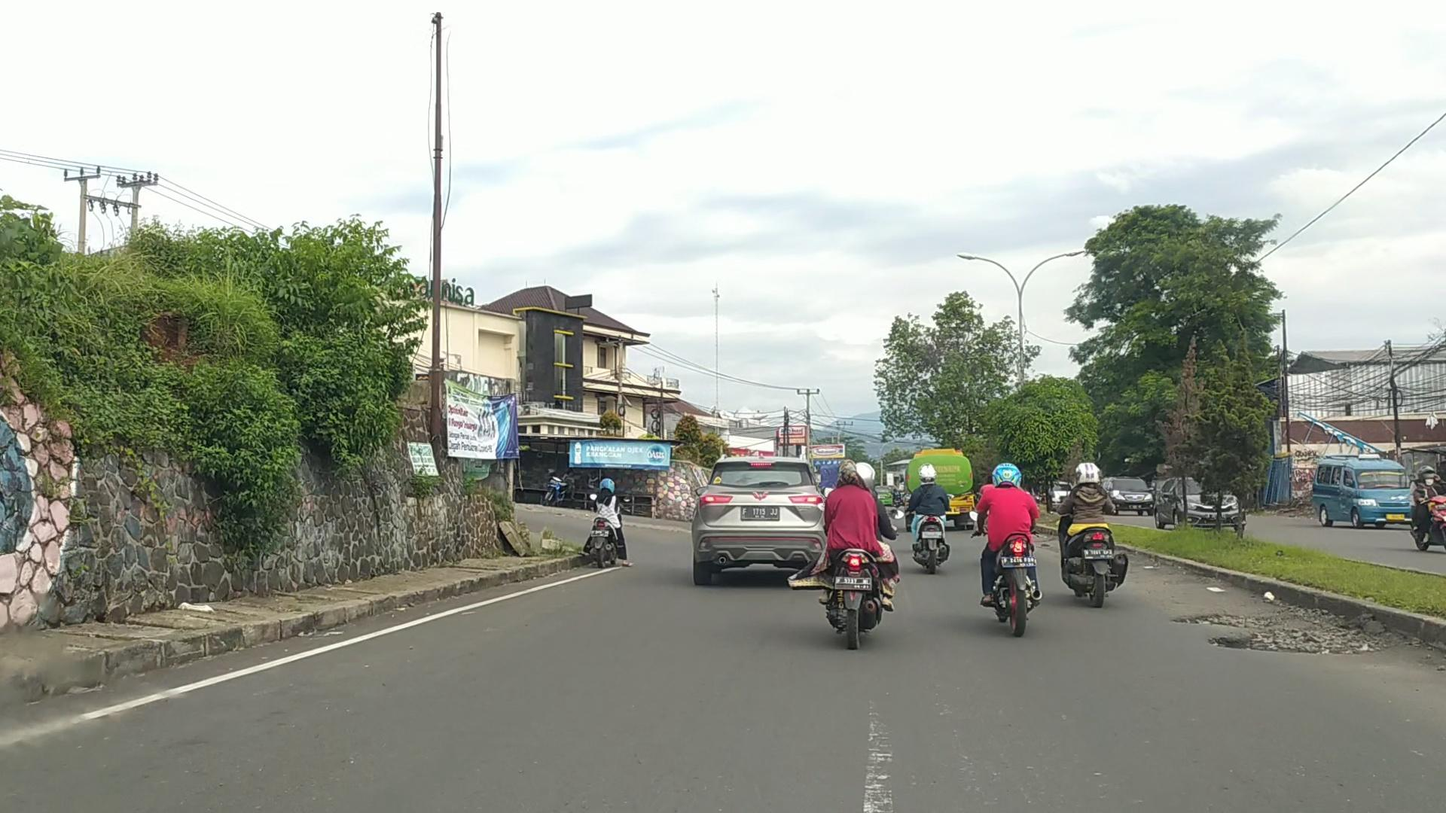pothole: (1169, 609, 1413, 657)
